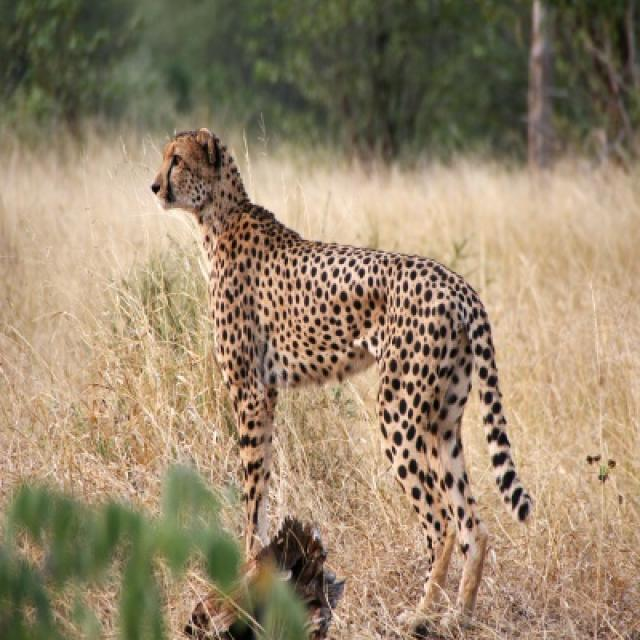Cheetah: (150, 128, 530, 618)
